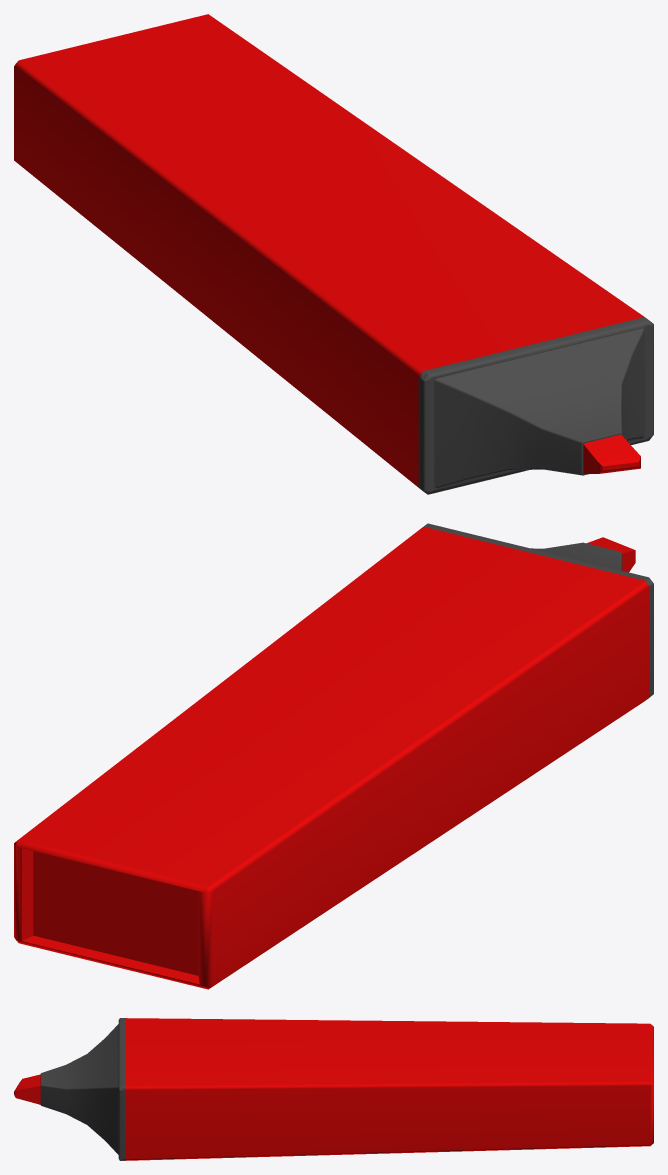
The model's file is SM_Marker 1.fbx.
3 renders of one model, top to bottom at view 1: azimuth 30°, elevation 25°; view 2: azimuth 150°, elevation 25°; view 3: azimuth 270°, elevation 25°, orthographic. The views are drawn at different scales.
Visible parts, largest first — view 1: Marker; view 2: Marker; view 3: Marker.
Boxes of the visible parts, x1,y1,x2,y2 form: Marker: (14,14,653,494); Marker: (14,523,653,989); Marker: (14,1018,653,1160).
Bounding box in the file's own units: 14.71 × 7.34 × 56.57.
